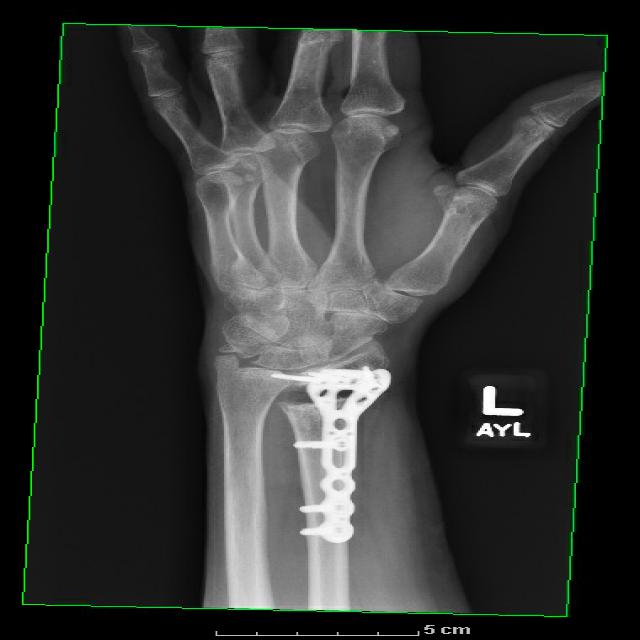x-ray: (261, 355, 403, 547)
